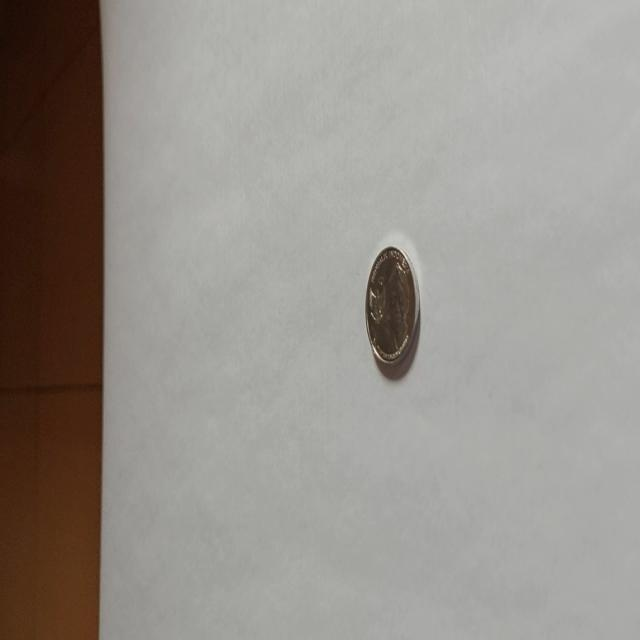dua ratus rupiah: (364, 244, 420, 368)
